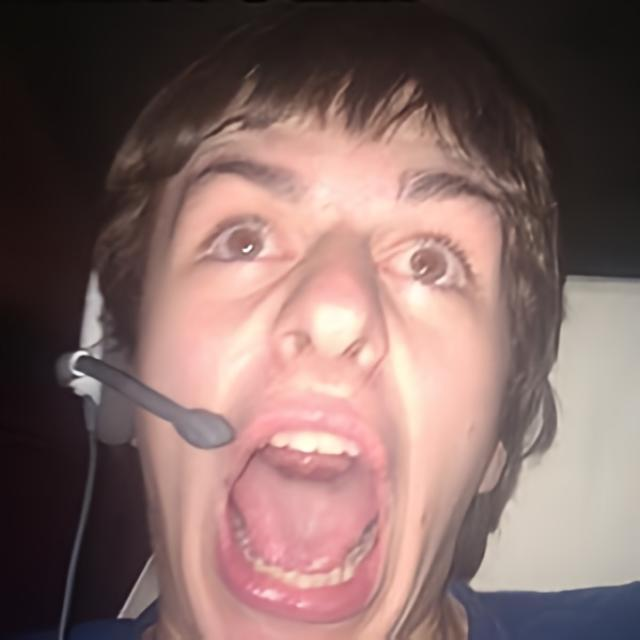fear: (132, 65, 513, 640)
